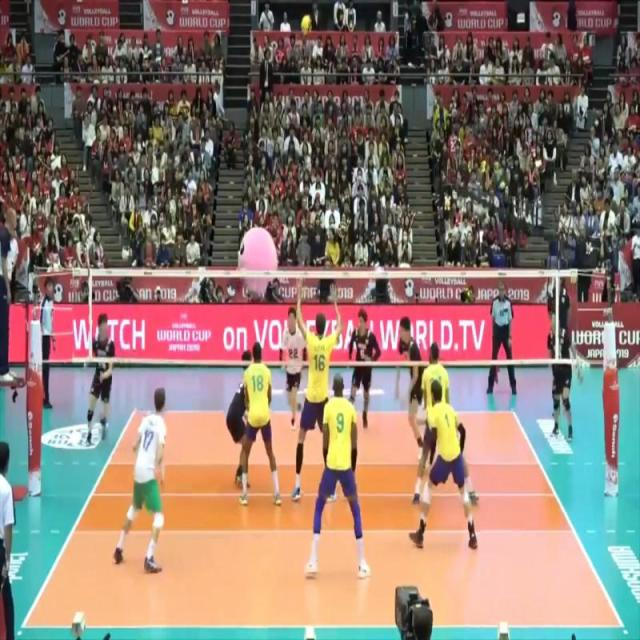volleyball: (298, 12, 316, 40)
